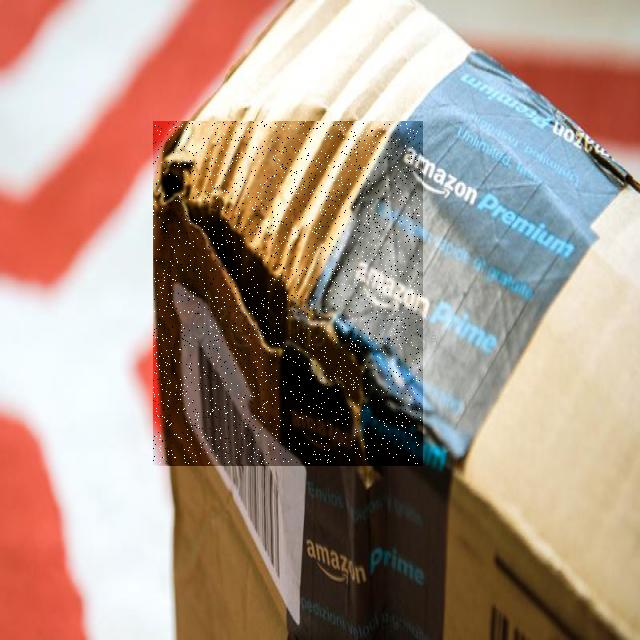tear: (154, 121, 421, 464)
